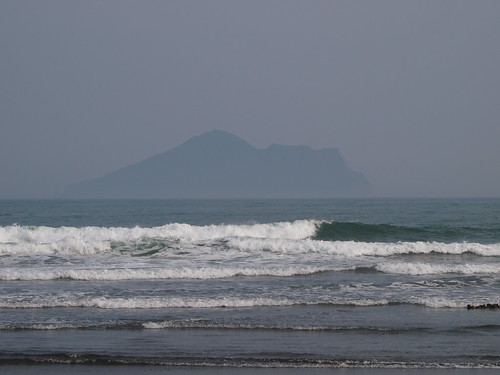turtleIsland: (46, 128, 378, 202)
